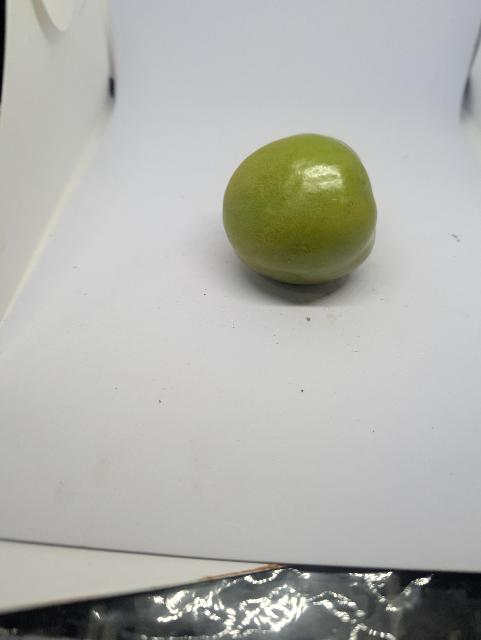green: (221, 132, 379, 286)
